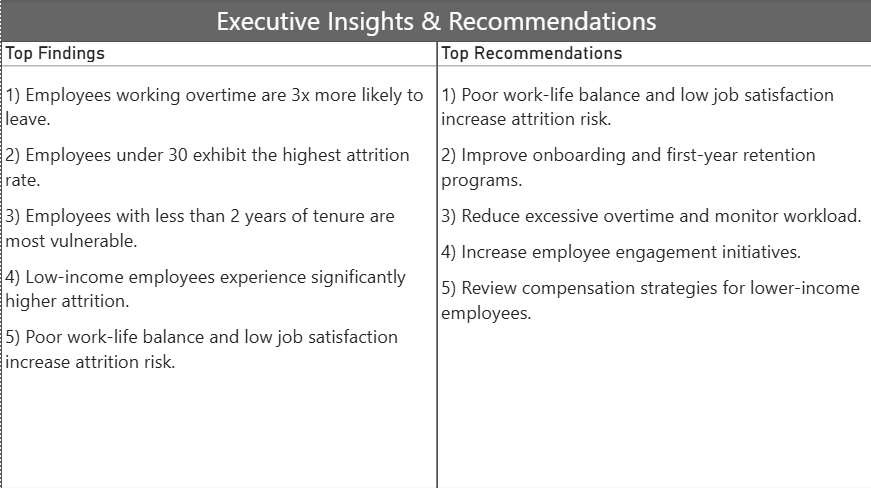

The page's visual inventory and layout, read from the dashboard file:
{"tool":"powerbi","page":{"name":"Executive Insights & Recommendations","canvas":[1280,720],"ordinal":3},"visuals":[{"type":"textbox","box":[0,0,1279.8,61.7],"z":0},{"type":"textbox","title":"Top Findings","box":[0,61.7,640.7,658.3],"z":1},{"type":"textbox","title":"Top Recommendations","box":[640,62,640,658],"z":2}]}

Visuals, with their boxes in screenshot pixels (x1, y1, x2, y2), scaled from the page's 1280x720 canvas onto the 871x488 screenshot:
textbox: l=0, t=0, r=870, b=42
"Top Findings" textbox: l=0, t=42, r=436, b=487
"Top Recommendations" textbox: l=436, t=42, r=870, b=487
